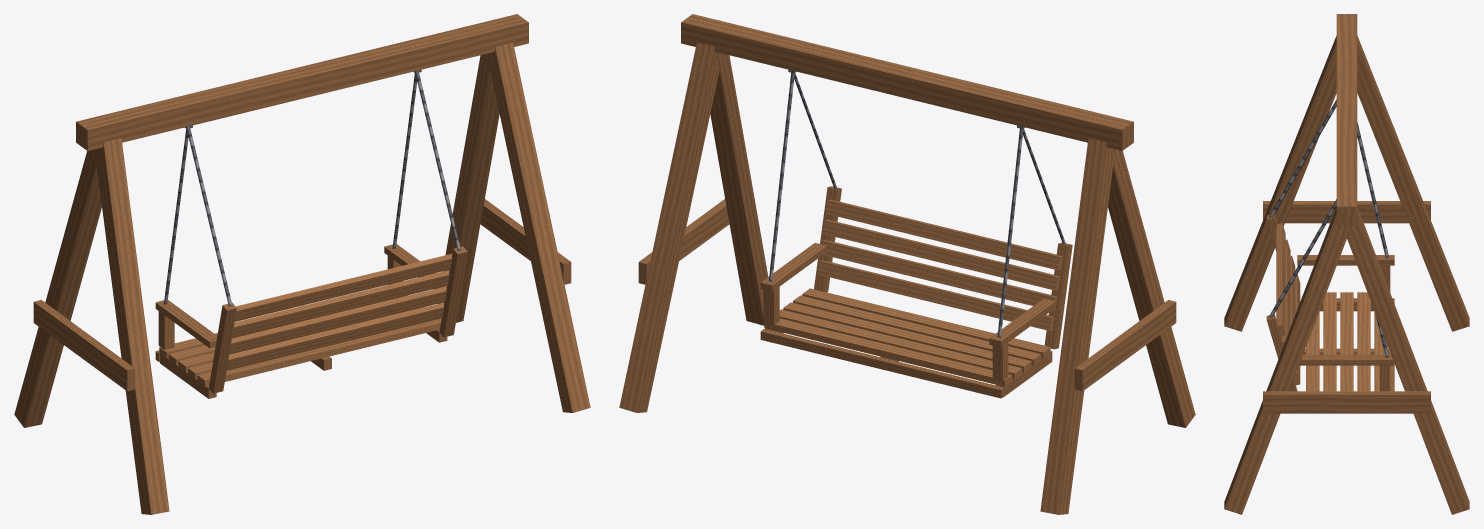
The model's file is swingchair.obj.
3 renders of one model, left to right at view 1: azimuth 30°, elevation 25°; view 2: azimuth 150°, elevation 25°; view 3: azimuth 270°, elevation 25°, orthographic. The views are drawn at different scales.
Visible parts, largest first — view 1: swingchair; view 2: swingchair; view 3: swingchair.
Boxes of the visible parts, x1,y1,x2,y2 form: swingchair: [14, 14, 590, 514]; swingchair: [619, 14, 1195, 514]; swingchair: [1224, 14, 1469, 514].
Bounding box in the file's own units: 2.77 × 2.06 × 1.48.
